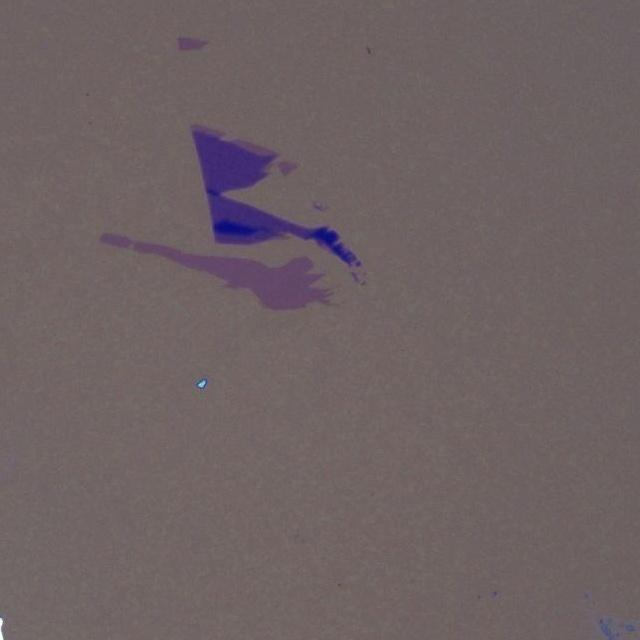monolayer-eWW4: (93, 228, 340, 316), (233, 138, 276, 160), (192, 122, 227, 142), (177, 34, 210, 54), (277, 160, 300, 178)
